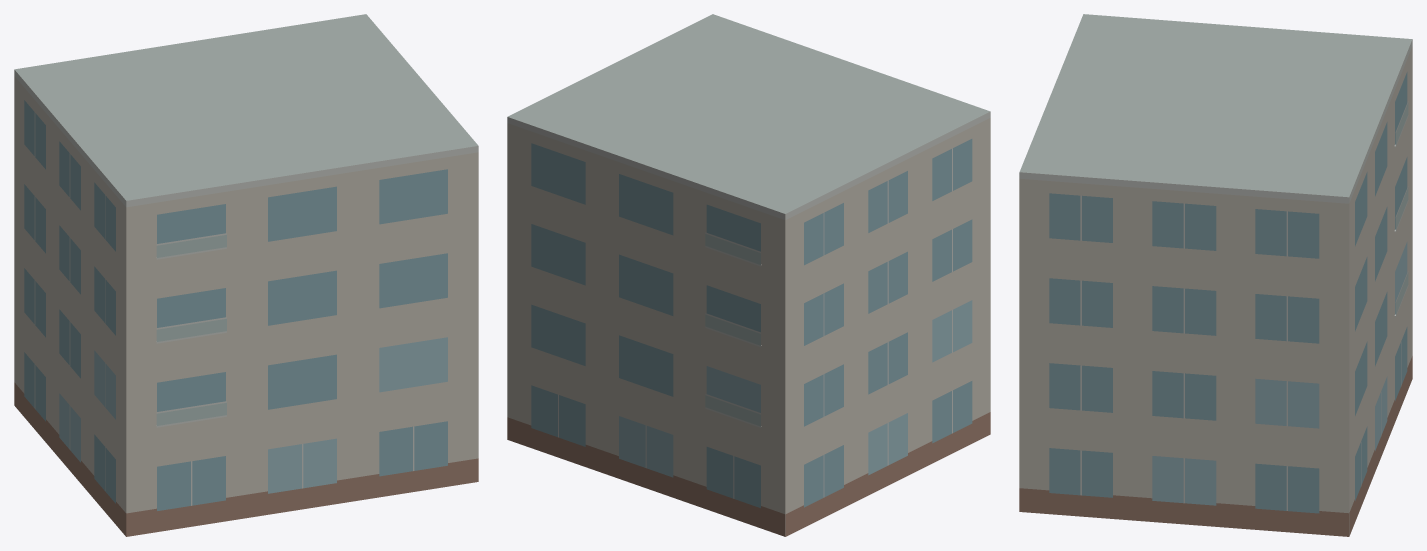
Rendered from survey-upis-32800053.glb.
The picture shows the model from 3 angles, left to right: view 1: azimuth 30°, elevation 25°; view 2: azimuth 150°, elevation 25°; view 3: azimuth 270°, elevation 25°; orthographic projection. The views are drawn at different scales.
Visible parts, largest first — view 1: survey-upis-32800053.tmp; view 2: survey-upis-32800053.tmp; view 3: survey-upis-32800053.tmp.
Boxes of the visible parts, <box> form: survey-upis-32800053.tmp: <box>14,14,478,536</box>; survey-upis-32800053.tmp: <box>507,14,990,536</box>; survey-upis-32800053.tmp: <box>1019,14,1412,536</box>.
Size of the model in its own units: 14.71 by 12.7 by 13.33.
